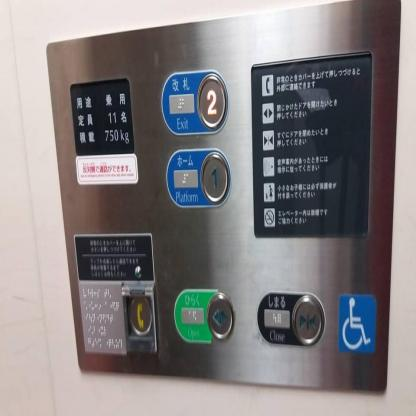1: (199, 148, 233, 206)
2: (196, 70, 230, 133)
CH: (336, 290, 376, 354)
call: (126, 291, 153, 338)
close: (290, 290, 325, 349)
open: (204, 289, 236, 343)
